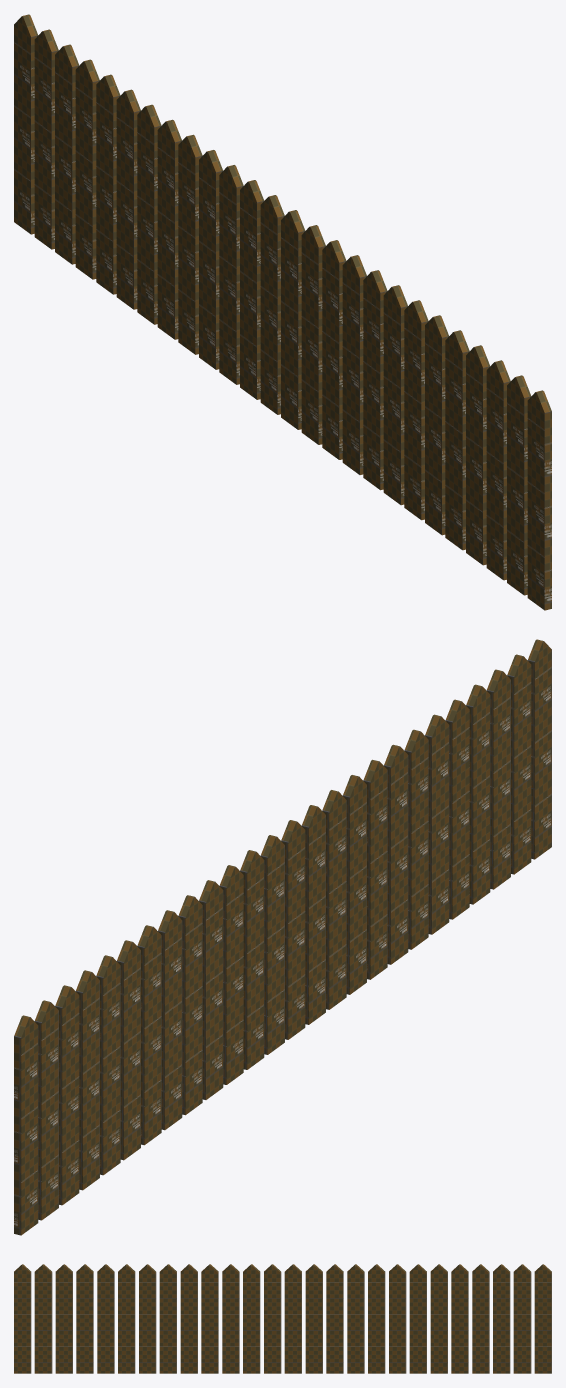
Rendered from fance 2.fbx.
3 views of the same model, one above another, from view 1: azimuth 30°, elevation 25°; view 2: azimuth 150°, elevation 25°; view 3: azimuth 270°, elevation 25° (orthographic). The views are drawn at different scales.
Parts seen in each view (by area): view 1: fance 2; view 2: fance 2; view 3: fance 2.
Part boxes in pixels (x1=…): fance 2: x1=14, y1=14, x2=551, y2=610; fance 2: x1=14, y1=639, x2=551, y2=1235; fance 2: x1=14, y1=1264, x2=551, y2=1373.
Bounding box in the file's own units: 5.81 × 162 × 737.
Materials: 1 (1 with a texture image).
